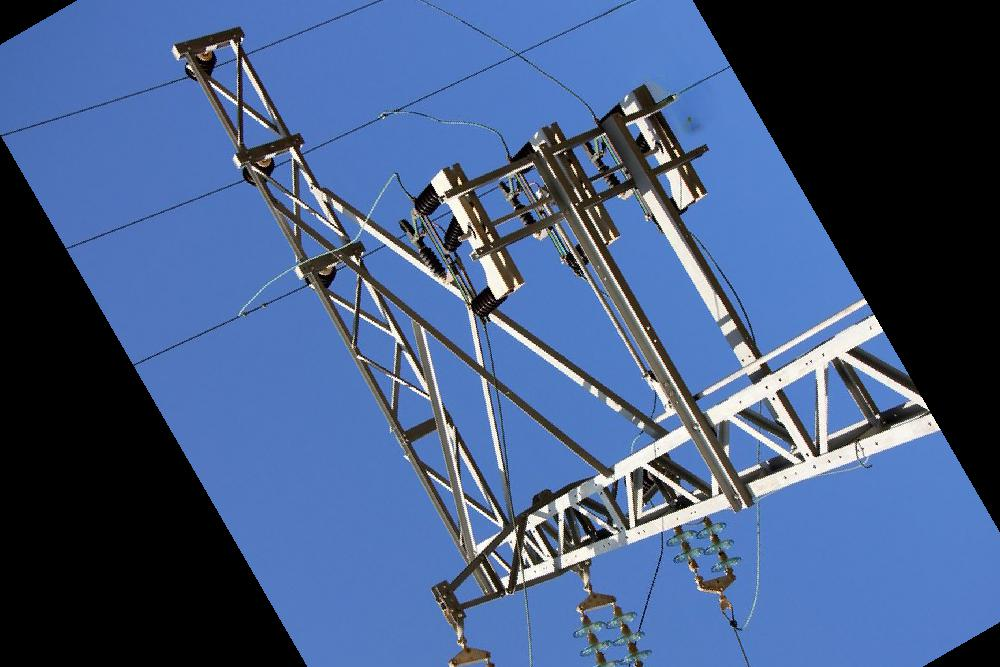insulator: (693, 518, 746, 581), (606, 606, 655, 667), (567, 618, 622, 667), (661, 527, 707, 575)
insulator_stringdrop: (671, 546, 709, 578)
